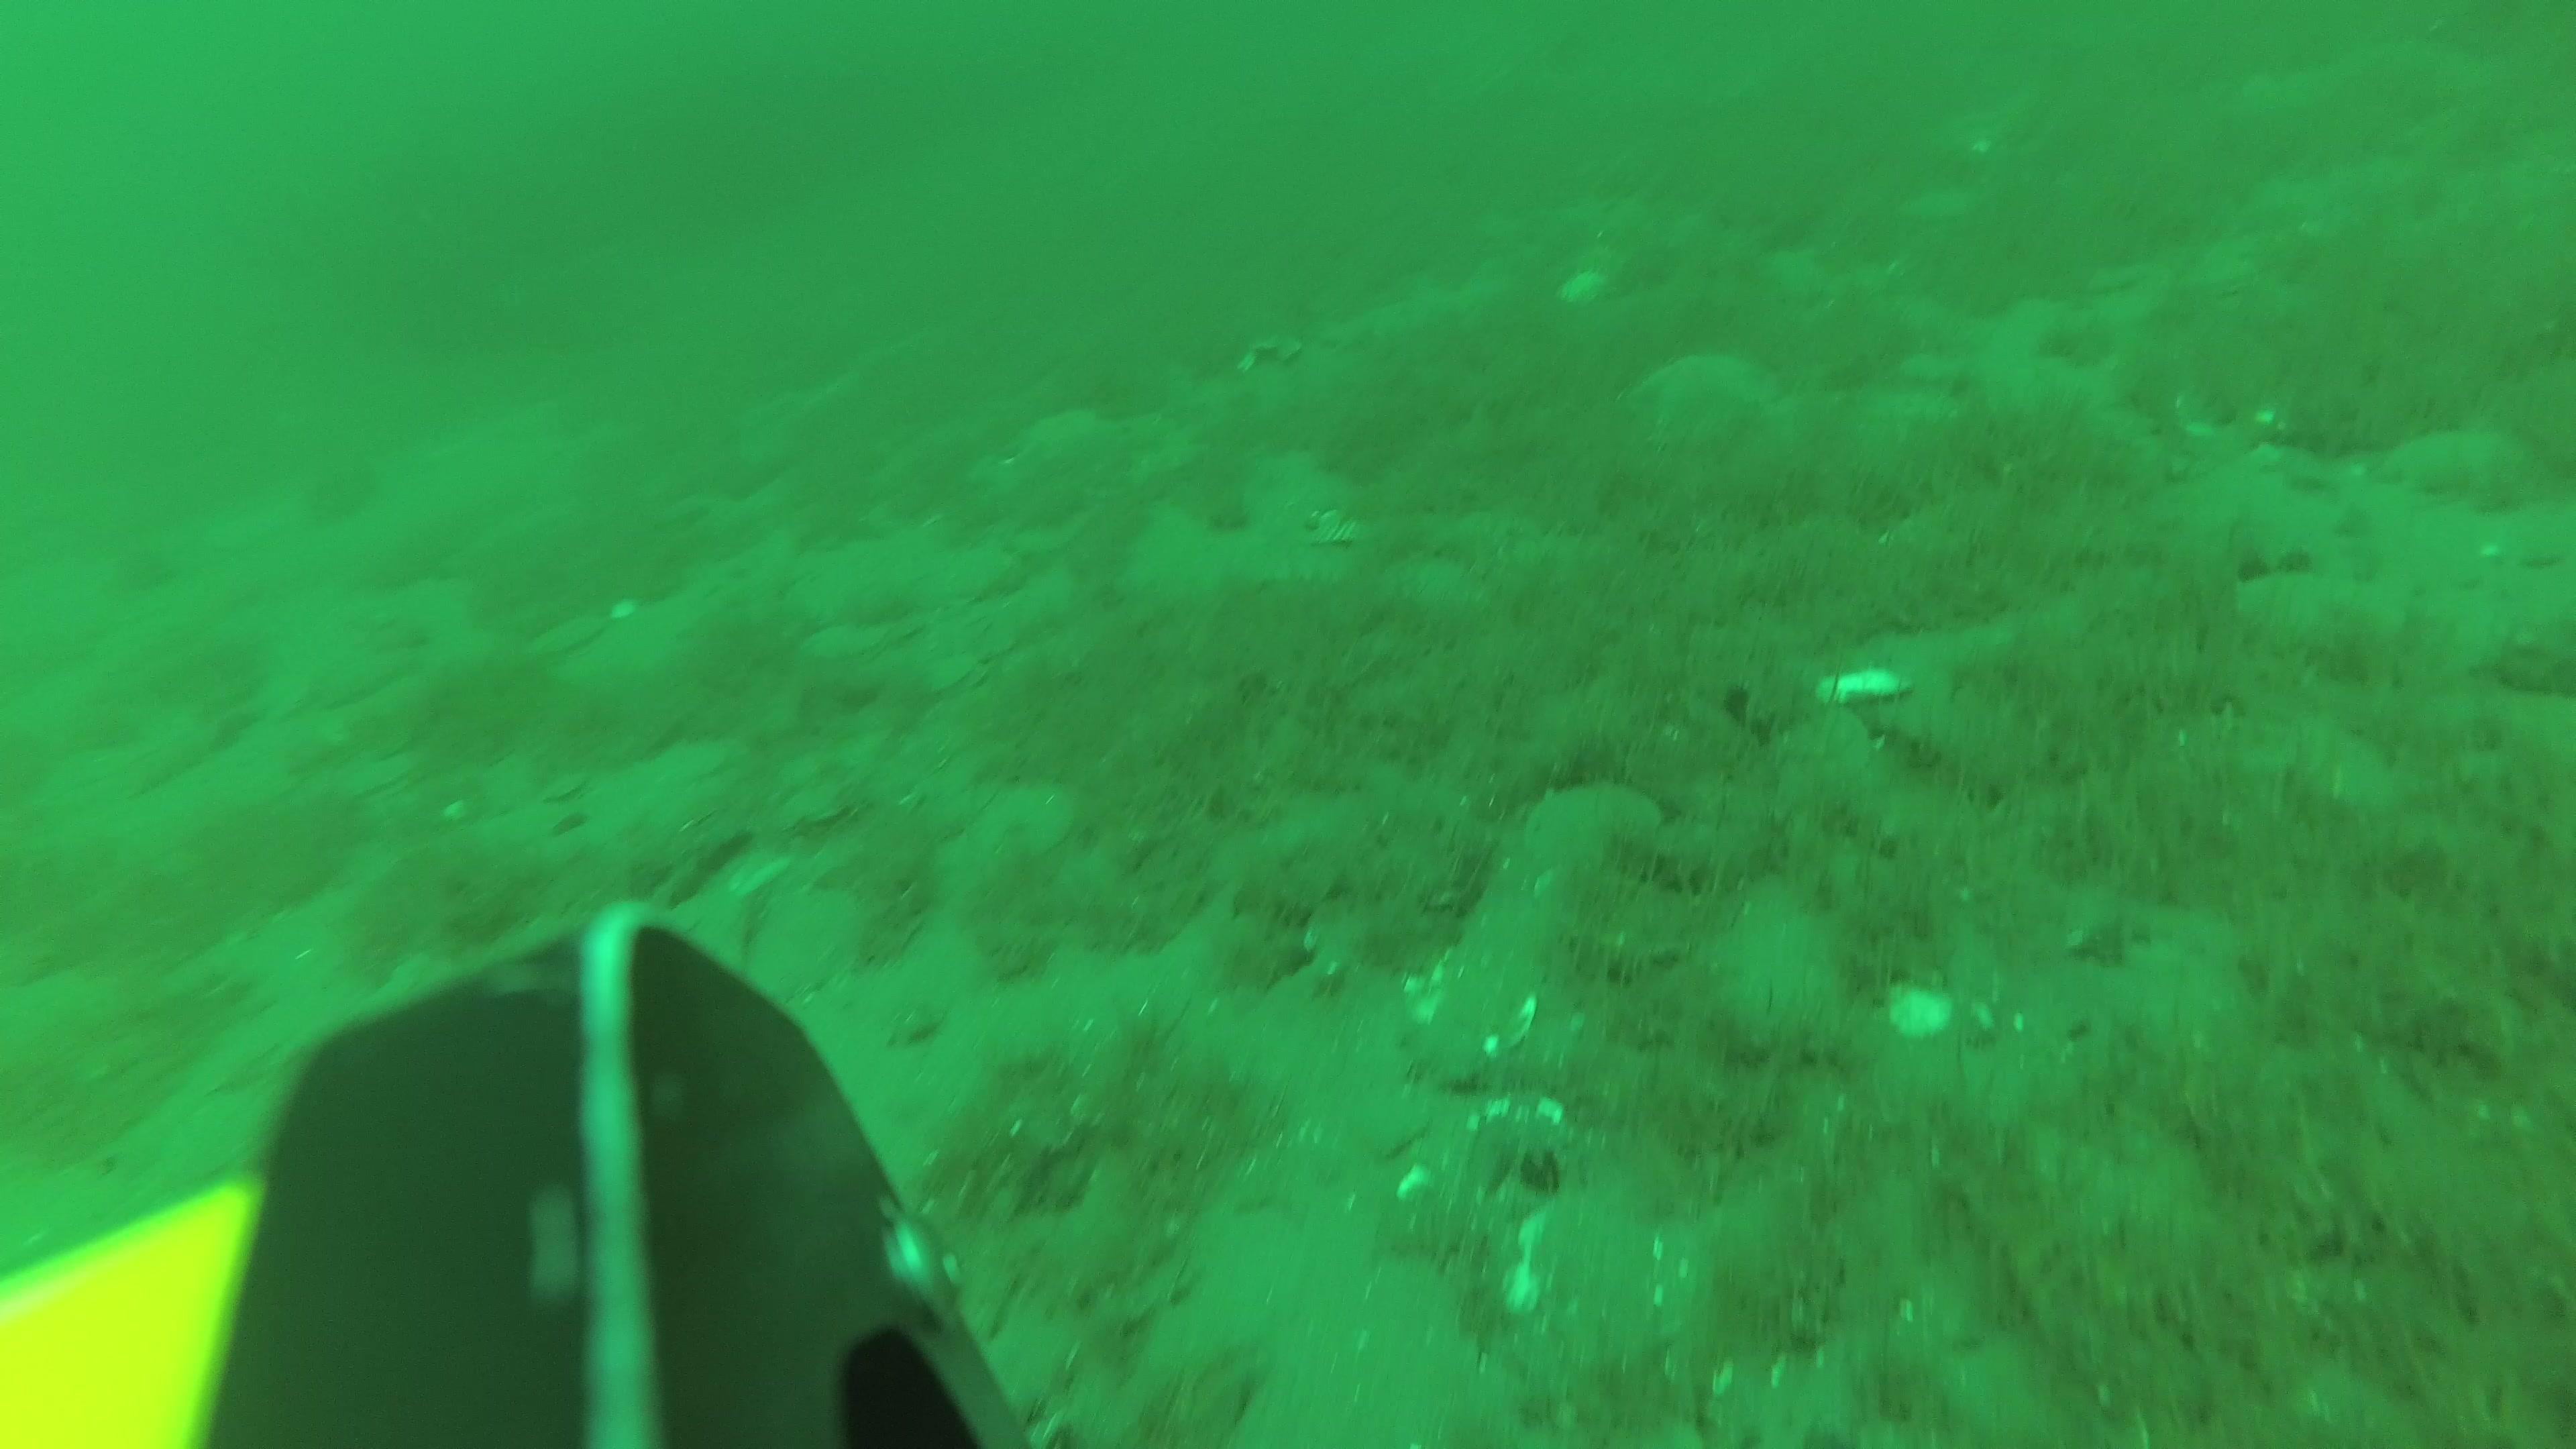scallop: (2242, 568, 2408, 662), (1527, 784, 1668, 885), (755, 888, 863, 1008), (2383, 430, 2526, 495), (971, 780, 1072, 867), (801, 619, 892, 672), (531, 614, 605, 662), (938, 653, 994, 704), (356, 761, 421, 801)
starfish: (1633, 349, 1769, 453), (1010, 409, 1122, 487)
